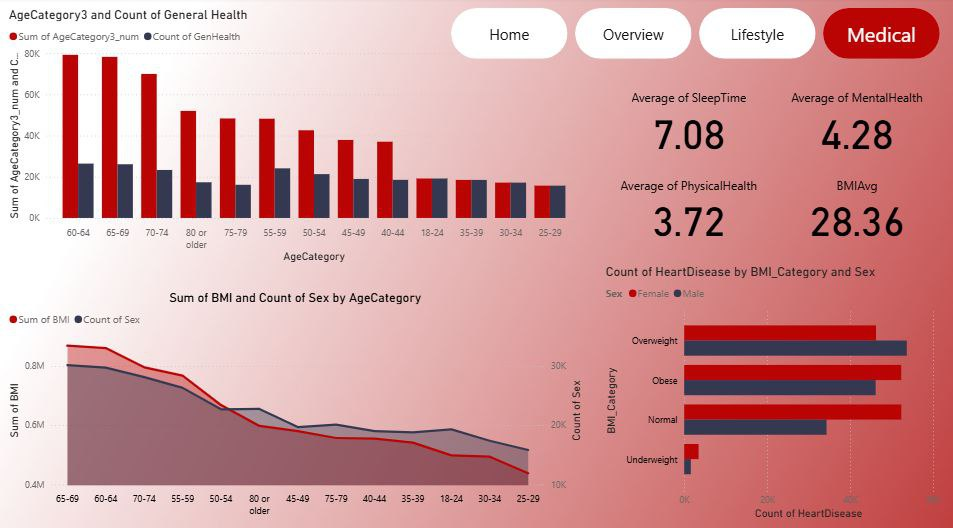

Layout of this report page (visuals, bound fields, positions):
{"tool":"powerbi","page":{"name":"Medical","canvas":[1280,720],"ordinal":3},"visuals":[{"type":"areaChart","fields":{"Category":["Sheet1.AgeCategory"],"Y":["Sum(Sheet1.BMI)"],"Y2":["CountNonNull(Sheet1.Sex)"]},"box":[10,391.7,776.7,311.7],"z":0},{"type":"clusteredColumnChart","title":"AgeCategory3 and Count of General Health ","fields":{"Category":["Sheet1.AgeCategory"],"Y":["Sum(Sheet1.AgeCategory3_num)","CountNonNull(Sheet1.GenHealth)"]},"box":[10,13.3,776.7,346.7],"z":1000},{"type":"clusteredBarChart","fields":{"Category":["Sheet1.BMI_Category"],"Y":["CountNonNull(Sheet1.HeartDisease)"],"Series":["Sheet1.Sex"]},"box":[808.3,356.7,458.3,346.7],"z":2000},{"type":"cardVisual","fields":{"Data":["Avg(Sheet1.SleepTime)","Avg(Sheet1.MentalHealth)","Avg(Sheet1.PhysicalHealth)","Sheet1.BMIAvg"]},"box":[811.7,106.7,453.3,236.7],"z":3000},{"type":"pageNavigator","box":[606.7,15,655,68.3],"z":4000}]}

Visuals, with their boxes in screenshot pixels (x1, y1, x2, y2), scaled from the page's 1280x720 canvas onto the 953x528 screenshot:
areaChart - Sheet1.AgeCategory x Sum(Sheet1.BMI): box(7, 287, 586, 516)
"AgeCategory3 and Count of General Health " clusteredColumnChart: box(7, 10, 586, 264)
clusteredBarChart - Sheet1.BMI_Category x CountNonNull(Sheet1.HeartDisease): box(602, 262, 943, 516)
cardVisual - Avg(Sheet1.SleepTime) x Avg(Sheet1.MentalHealth): box(604, 78, 942, 252)
pageNavigator: box(452, 11, 939, 61)
